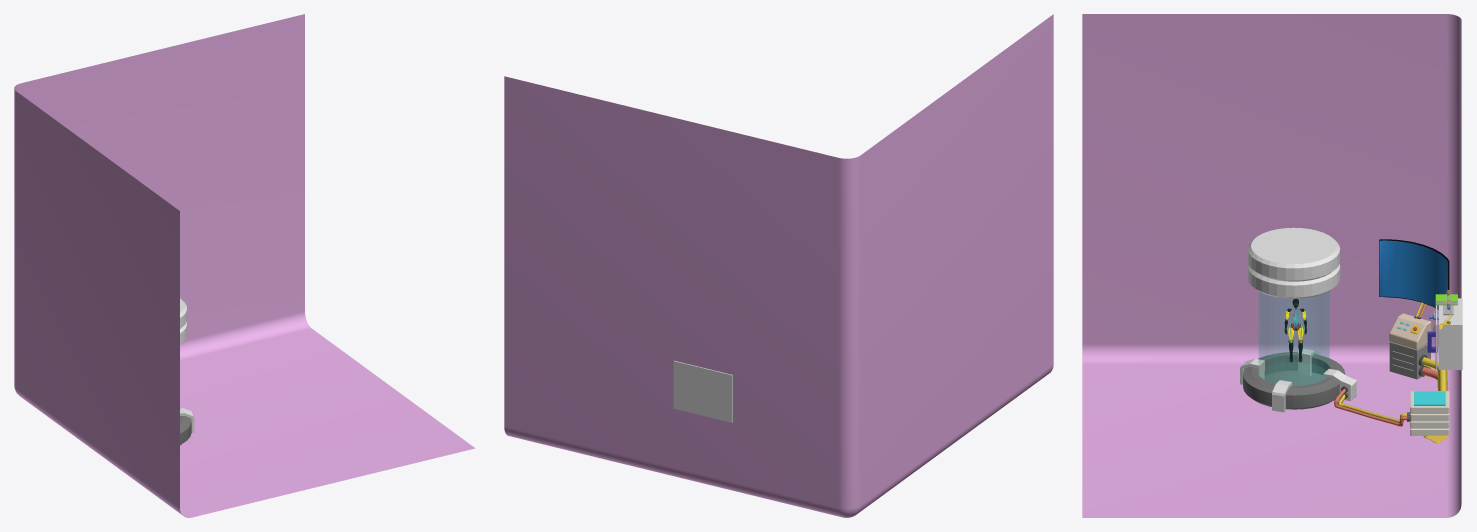
File: secondEs5.glb
3 renders of one model, left to right at view 1: azimuth 30°, elevation 25°; view 2: azimuth 150°, elevation 25°; view 3: azimuth 270°, elevation 25°, orthographic. The views are drawn at different scales.
Parts seen in each view (by area): view 1: paredes, base; view 2: paredes, casillero; view 3: paredes, base, cupula, smart, casillero, basecontrol, control, i-robot obj, energy, energyL.
Boxes of the visible parts, left/top/right/bottom form: paredes: left=14, top=14, right=475, bottom=517; base: left=180, top=298, right=194, bottom=445; paredes: left=504, top=14, right=1053, bottom=517; casillero: left=673, top=360, right=732, bottom=422; paredes: left=1082, top=14, right=1461, bottom=517; base: left=1240, top=227, right=1356, bottom=412; cupula: left=1259, top=291, right=1329, bottom=385; smart: left=1379, top=239, right=1449, bottom=309; casillero: left=1427, top=298, right=1462, bottom=369; basecontrol: left=1389, top=341, right=1430, bottom=379; control: left=1389, top=313, right=1431, bottom=349; i-robot obj: left=1284, top=299, right=1306, bottom=362; energy: left=1410, top=391, right=1449, bottom=413; energyL: left=1414, top=391, right=1445, bottom=405.
Bounding box in the file's own units: 10.06 × 10.12 × 10.09.
Materials: 36 (1 with a texture image).
